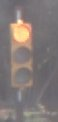Red: (8, 20, 37, 92)
